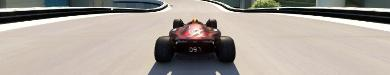Car: (153, 17, 236, 63)
Tree: (248, 0, 280, 8)
curve: (0, 1, 389, 73)
obstacles-Borders: (0, 5, 162, 26)
